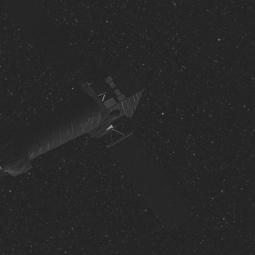xmm_newton: (0, 57, 162, 176)
